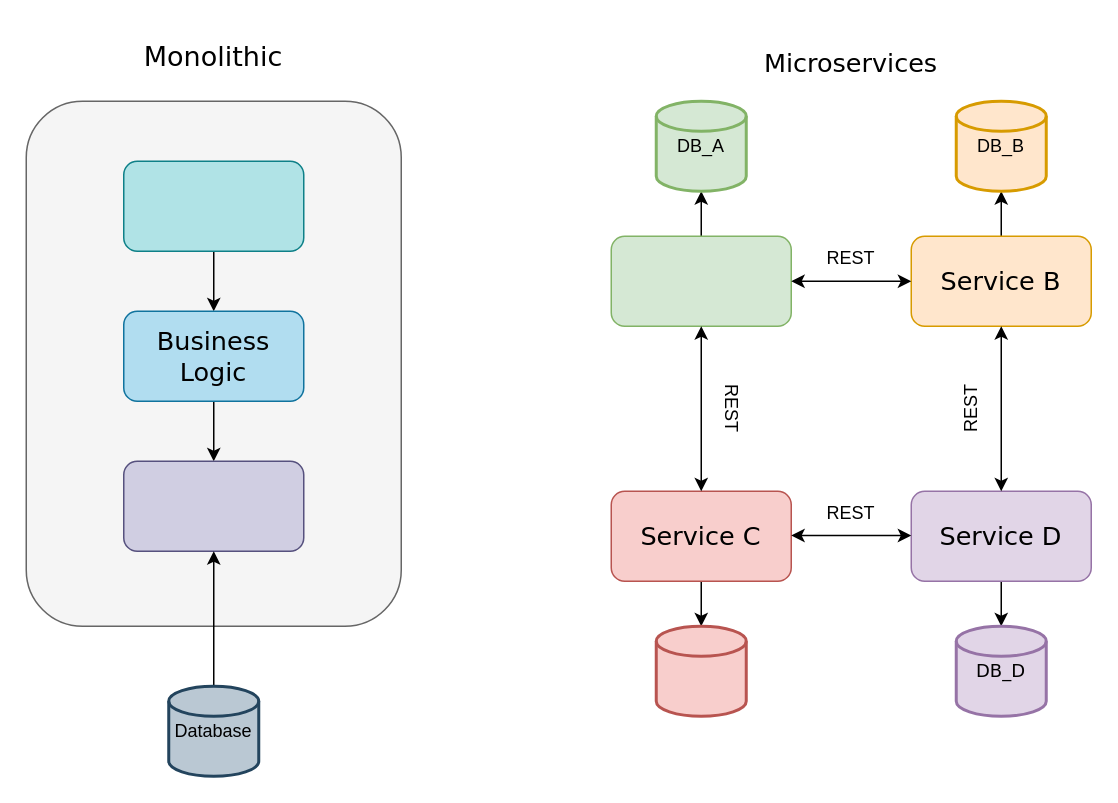
The diagram is 1118 pixels wide and 803 high, and some of its shapes have lost their labels. Each missing label, with the centre of its shape:
Data Access: the point at 213,505
DB_C: the point at 700,670
Service A: the point at 700,280
UI Layer: the point at 213,205
